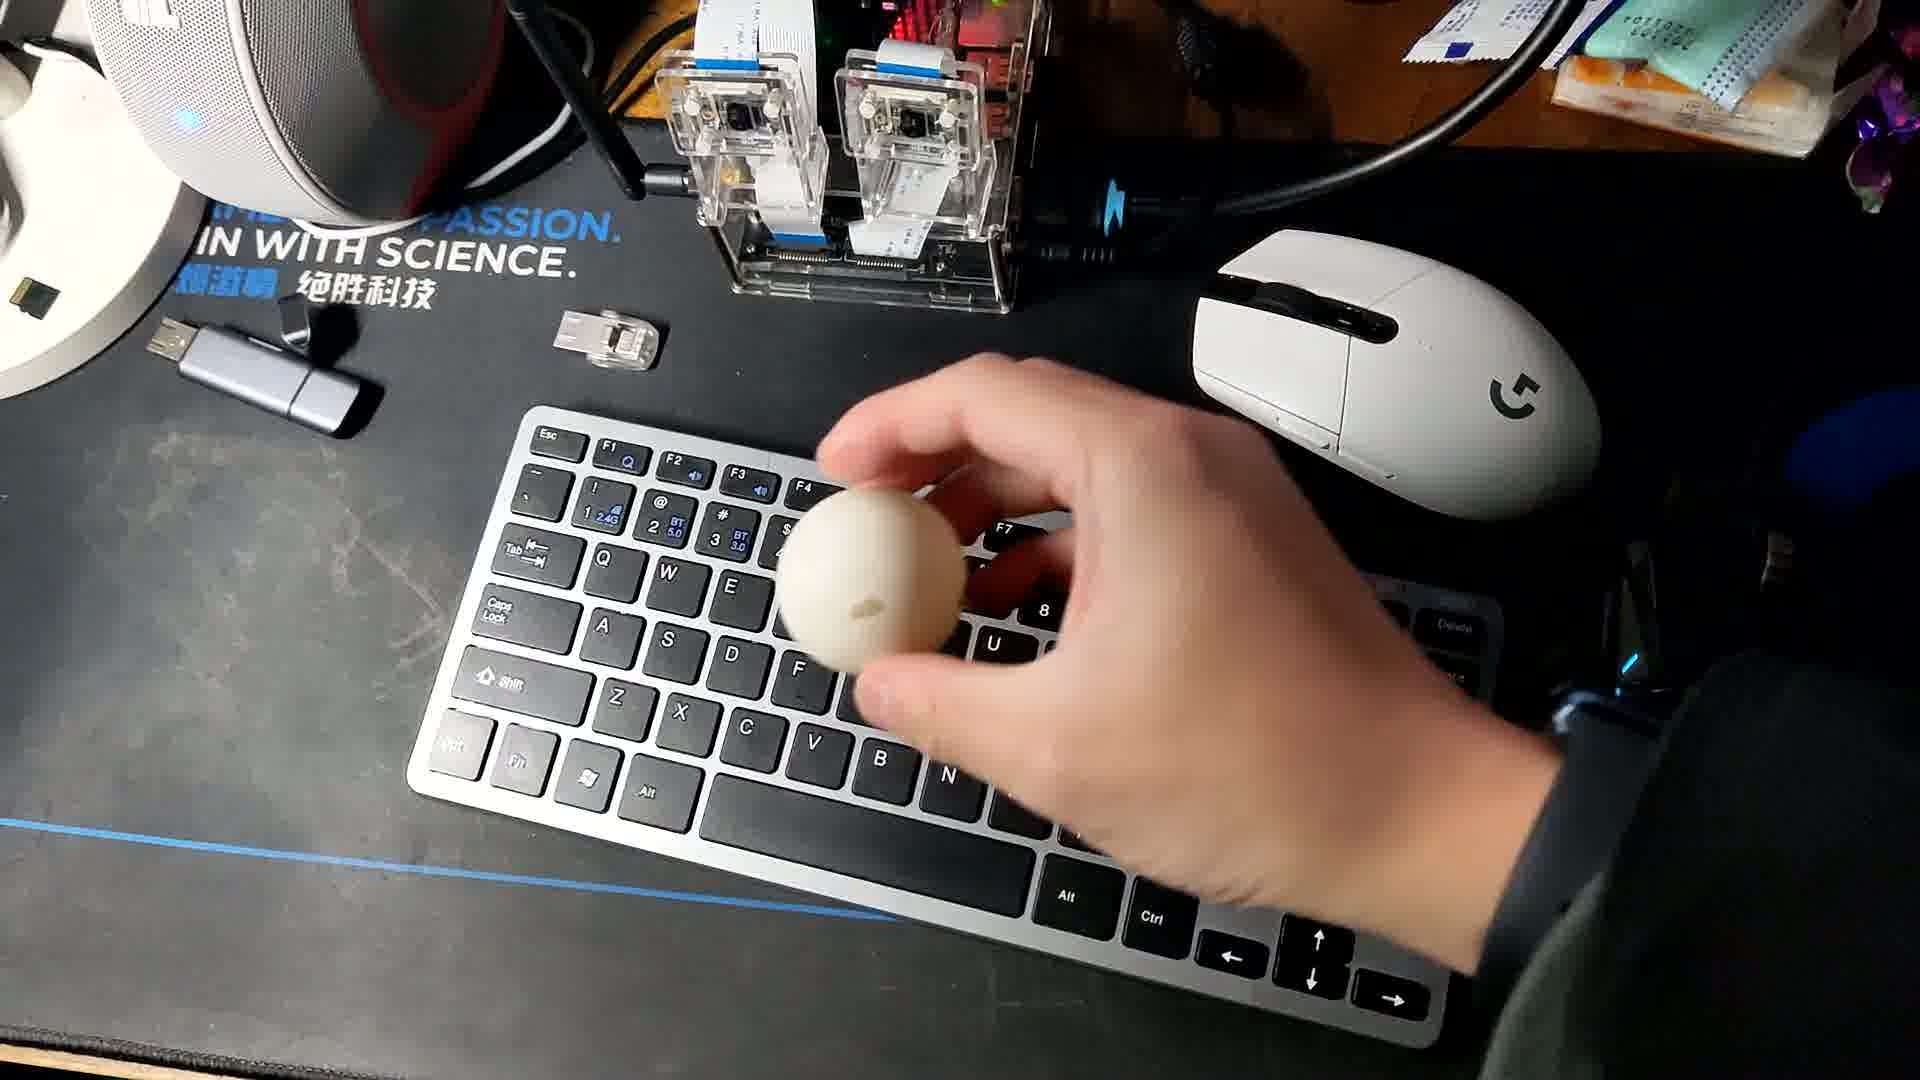Ball: (773, 489, 971, 674)
